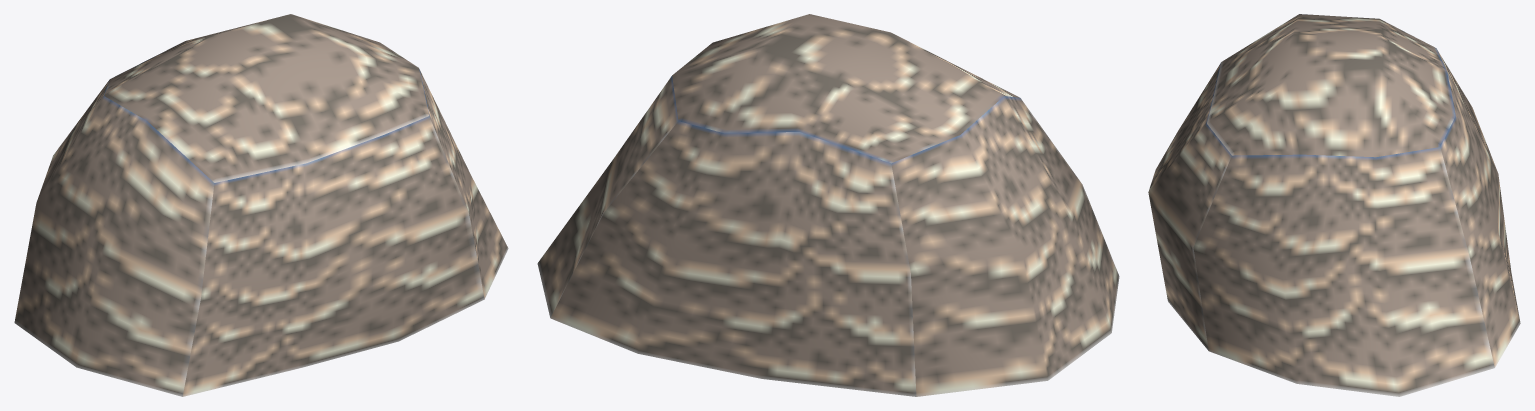
File: small_sand_Rock.fbx
3 renders of one model, left to right at view 1: azimuth 30°, elevation 25°; view 2: azimuth 150°, elevation 25°; view 3: azimuth 270°, elevation 25°, orthographic. The views are drawn at different scales.
Parts seen in each view (by area): view 1: small_sand_Rock; view 2: small_sand_Rock; view 3: small_sand_Rock.
Part boxes in pixels (x1=…): small_sand_Rock: x1=14, y1=14, x2=508, y2=396; small_sand_Rock: x1=537, y1=14, x2=1119, y2=396; small_sand_Rock: x1=1148, y1=14, x2=1520, y2=396.
Bounding box in the file's own units: 1.23 × 0.6074 × 0.8797.
